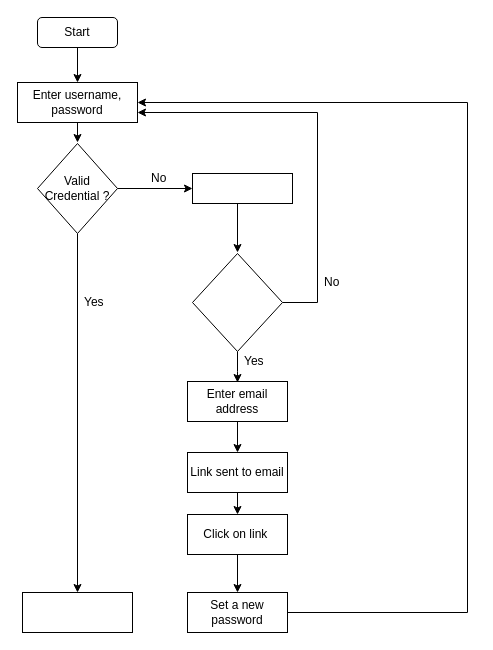
Image size: 493x650. Some labels were removed from this diagram. The box of each missing label's shape, as (x1, y1, x2, y2) in pixels:
Forget password?: (192, 252, 282, 352)
Login failed: (192, 172, 292, 204)
Login sucessfully: (22, 592, 132, 632)
